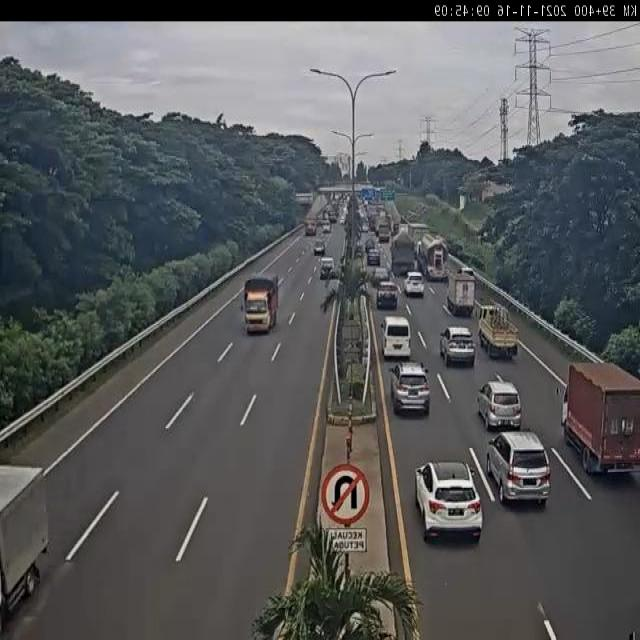Car: (414, 460, 484, 543), (486, 430, 552, 506), (477, 380, 522, 433), (389, 360, 432, 414), (440, 325, 477, 368), (376, 280, 399, 310), (404, 272, 425, 298), (319, 256, 335, 279), (371, 267, 388, 286), (314, 240, 326, 256), (322, 223, 330, 234)
Truck: (559, 362, 640, 476), (478, 303, 520, 359), (243, 275, 280, 335), (448, 272, 474, 315)
Van: (381, 315, 411, 360)
